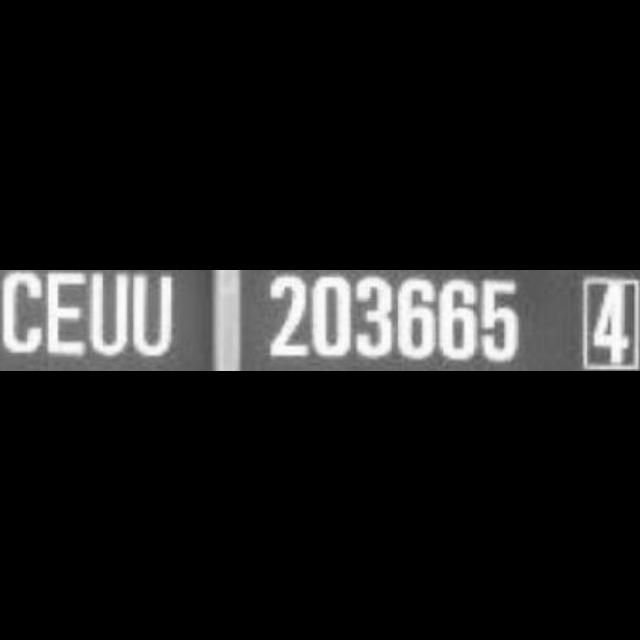0: (308, 269, 354, 361)
2: (266, 269, 308, 363)
3: (353, 269, 395, 361)
4: (578, 270, 640, 370)
5: (480, 270, 526, 364)
6: (438, 269, 480, 367), (396, 269, 438, 363)
c: (0, 270, 46, 360)
e: (44, 269, 90, 359)
u: (132, 269, 176, 361), (90, 269, 130, 357)
